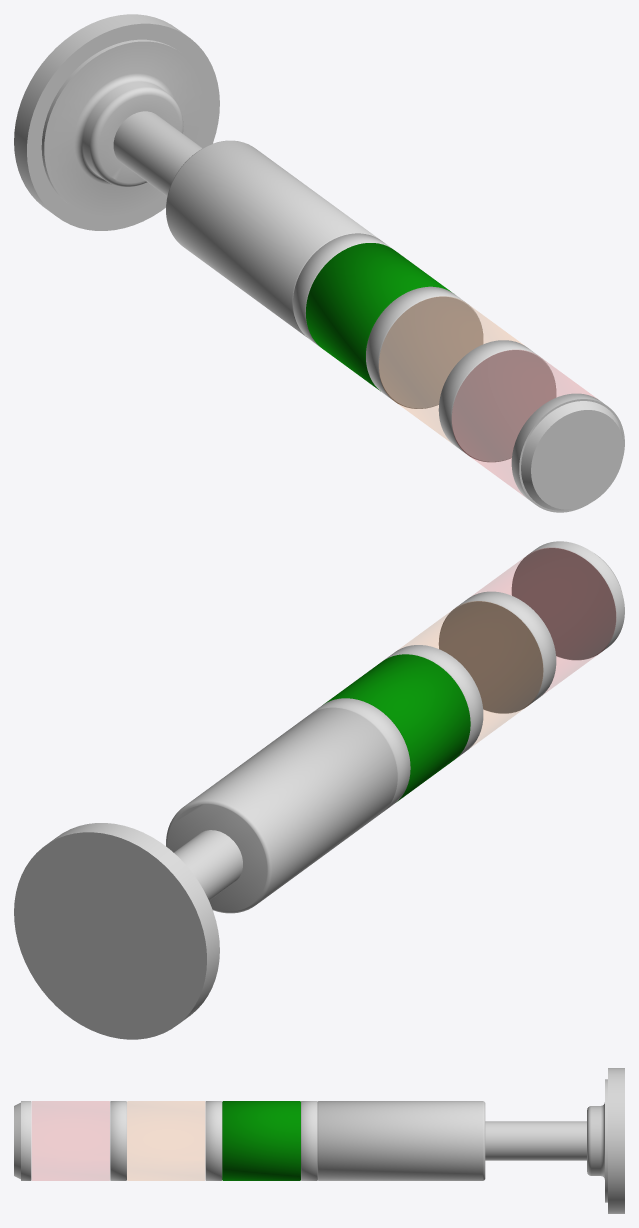
The model's file is 状态灯.obj.
3 renders of one model, top to bottom at view 1: azimuth 30°, elevation 25°; view 2: azimuth 150°, elevation 25°; view 3: azimuth 270°, elevation 25°, orthographic. The views are drawn at different scales.
Visible parts, largest first — view 1: GeoContainer; view 2: GeoContainer; view 3: GeoContainer.
Part boxes in pixels (x1,y1,x2,y2): GeoContainer: (14, 14, 624, 512); GeoContainer: (14, 541, 624, 1039); GeoContainer: (14, 1068, 624, 1213).
Size of the model in its own units: 104 by 104 by 436.
